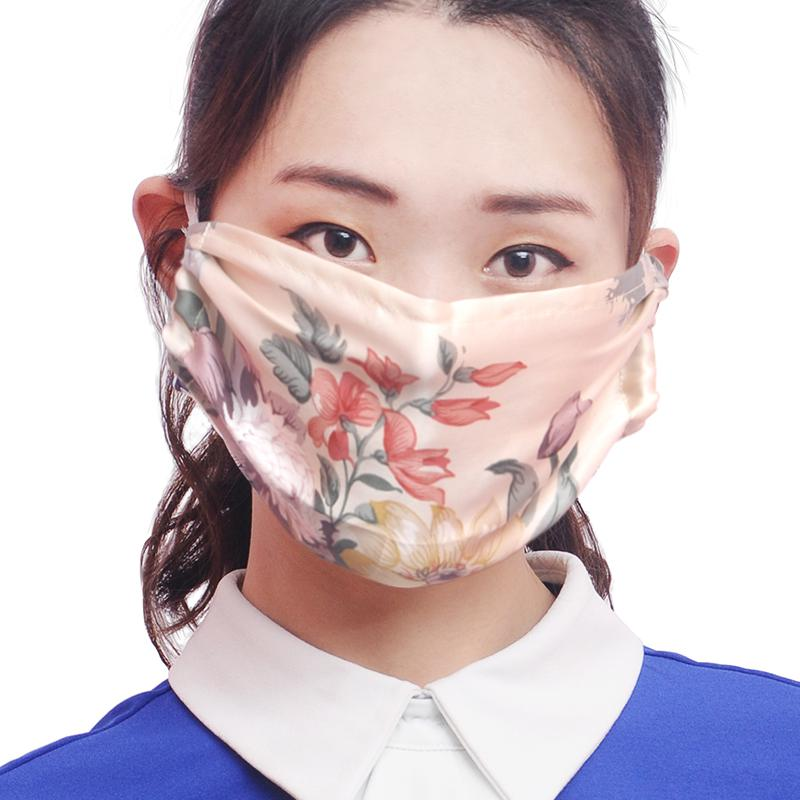OK: (214, 151, 648, 585)
